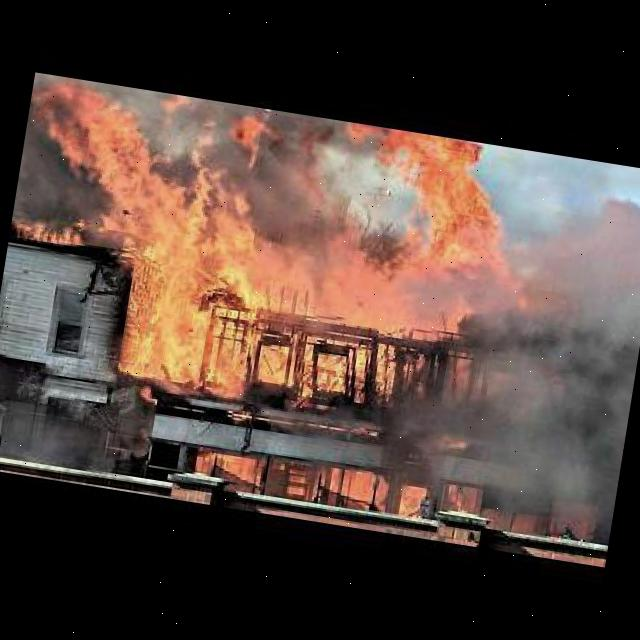fire: (1, 74, 531, 440), (416, 173, 640, 535)
